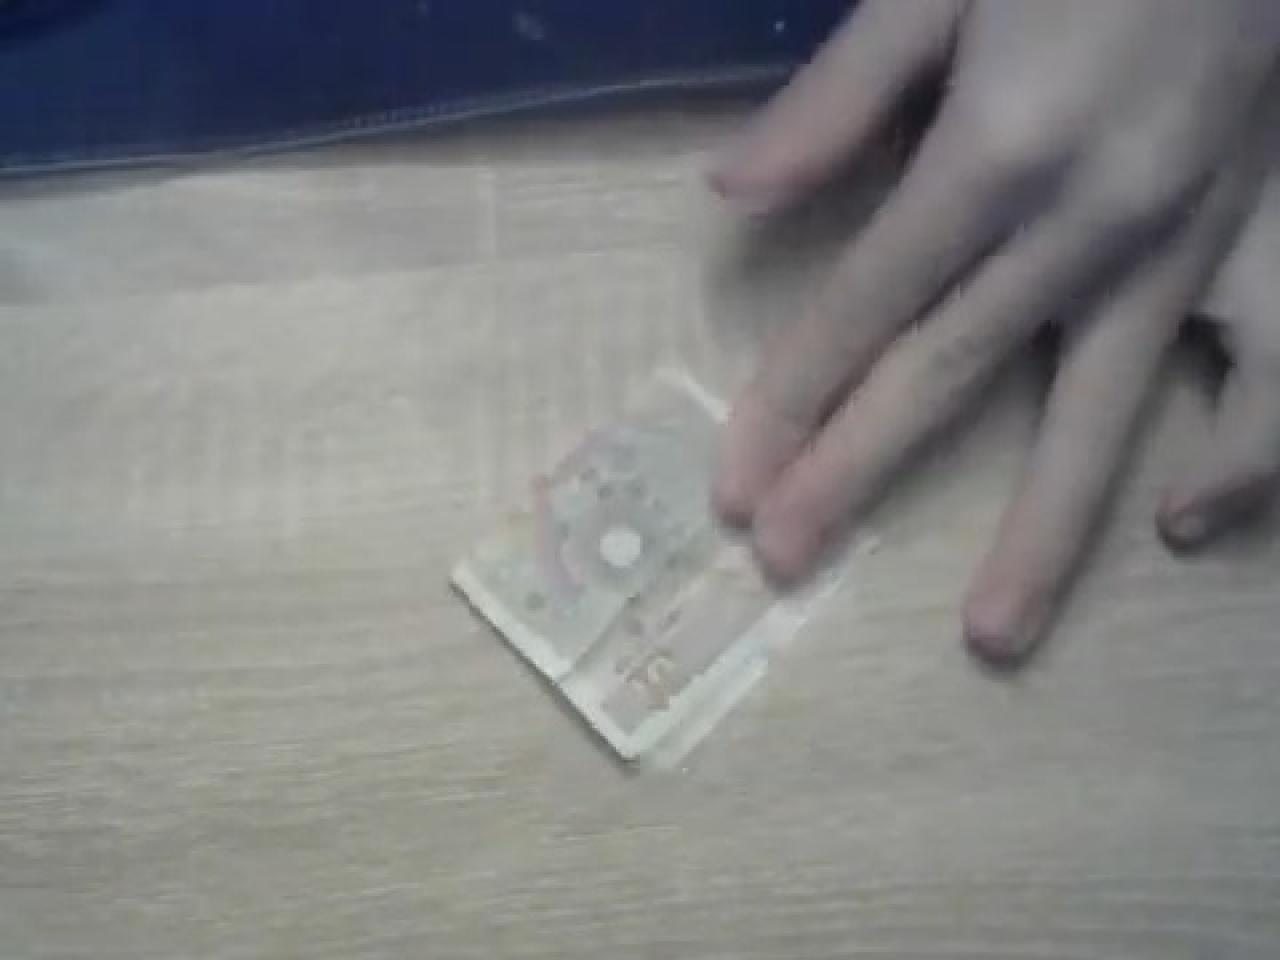10leva: (447, 363, 862, 773)
